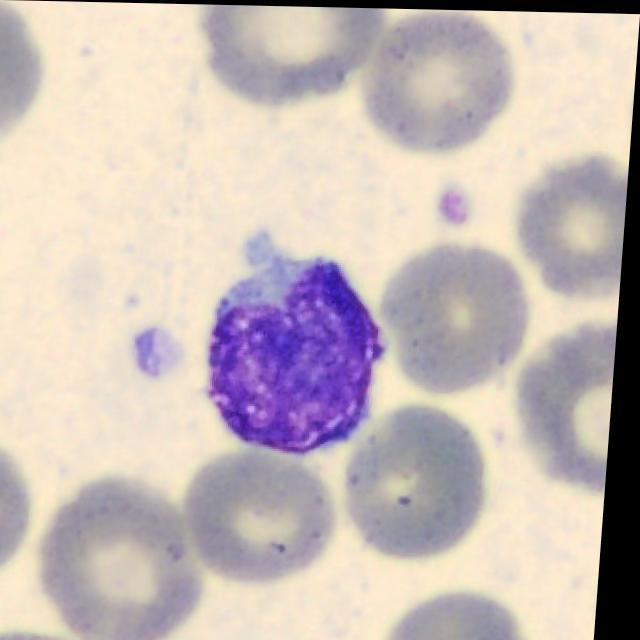Linfocito: (213, 231, 391, 455)
